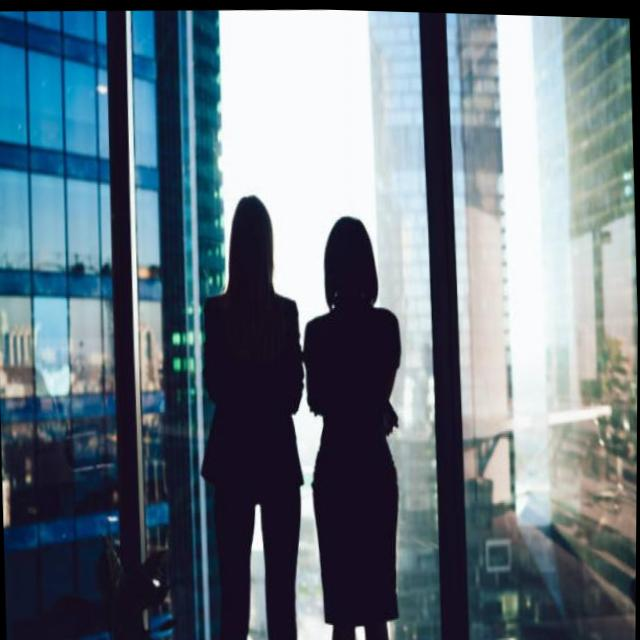no helmet: (302, 191, 390, 334), (213, 169, 283, 301)
